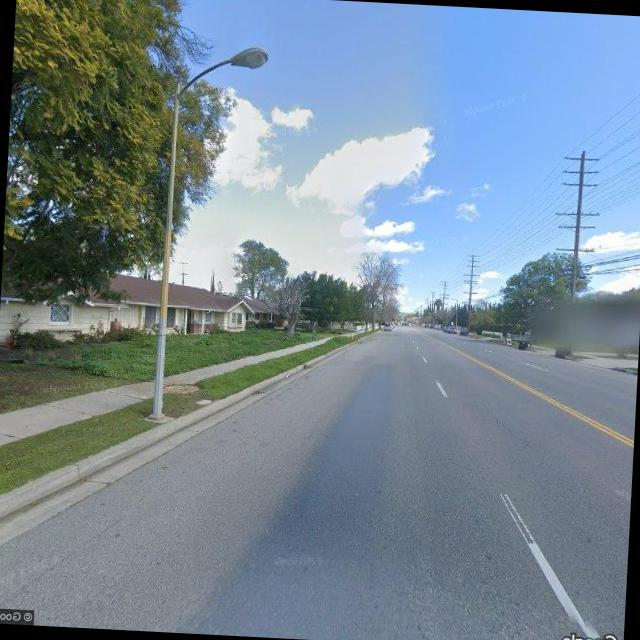pothole: (478, 398, 535, 454)
